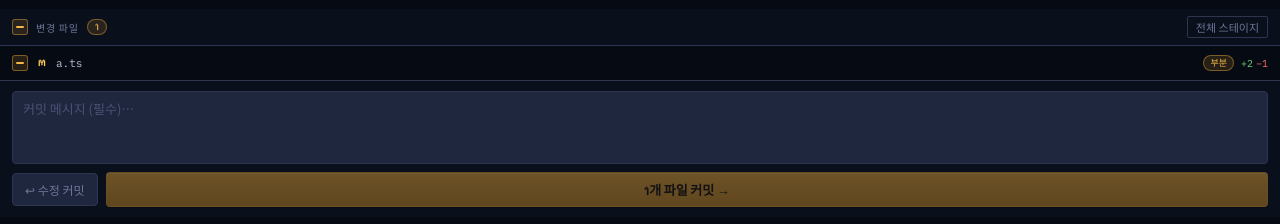
Test: StageArea — 단일 목록 + 3상태 토글 › ③ 부분 스테이지(양쪽 존재) → 한 행 + indeterminate, 토글 시 나머지 stage
Check: the text "a.ts" is shown once, box left=56, top=56, right=82, bottom=70
Check: the text "부분" is shown, box left=1203, top=55, right=1234, bottom=71
Click the checkbox named "a.ts 스테이지 토글": (20, 63) left=12, top=55, right=28, bottom=71
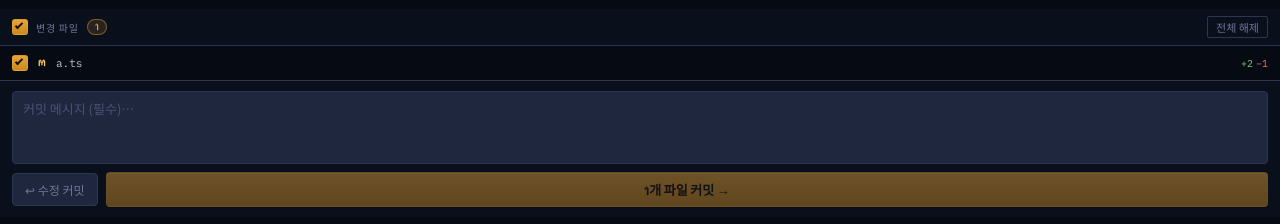
Check: the checkbox named "a.ts 스테이지 토글" is checked, box left=12, top=55, right=28, bottom=71
Check: the text "부분" is gone
